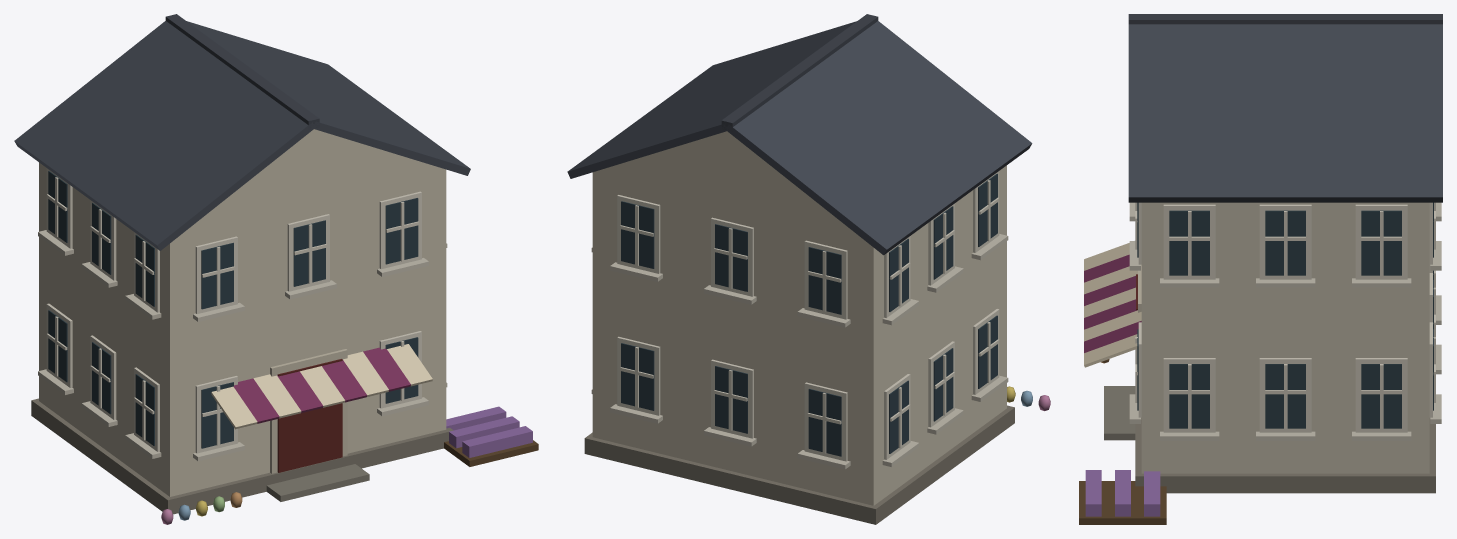
File: procedural_perfumery@5.glb
3 views of the same model, side by side, from view 1: azimuth 30°, elevation 25°; view 2: azimuth 150°, elevation 25°; view 3: azimuth 270°, elevation 25° (orthographic). The views are drawn at different scales.
Parts seen in each view (by area): view 1: part_0; view 2: part_0; view 3: part_0.
Part boxes in pixels (bbox=[...]): part_0: bbox=[14, 14, 538, 524]; part_0: bbox=[567, 14, 1050, 524]; part_0: bbox=[1079, 14, 1442, 524].
Size of the model in its own units: 7.42 by 7.04 by 5.81.
